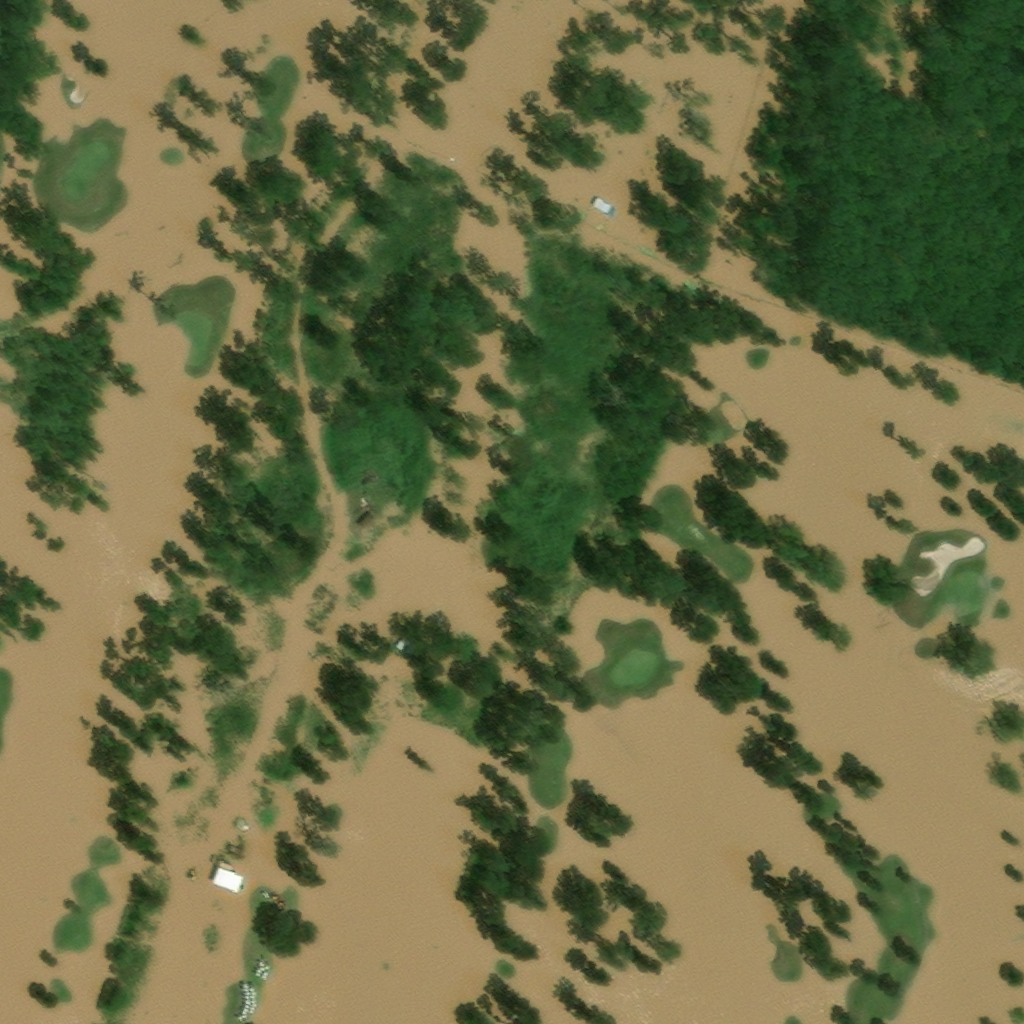destroyed: (212, 863, 241, 893), (593, 201, 613, 219), (228, 846, 246, 861)
